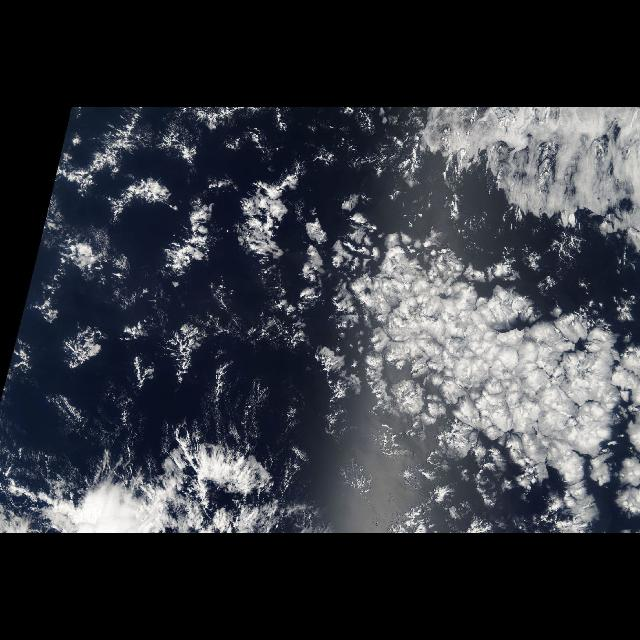Fish: (4, 411, 323, 534)
Flower: (48, 108, 512, 382)
Sugar: (64, 389, 294, 446)
